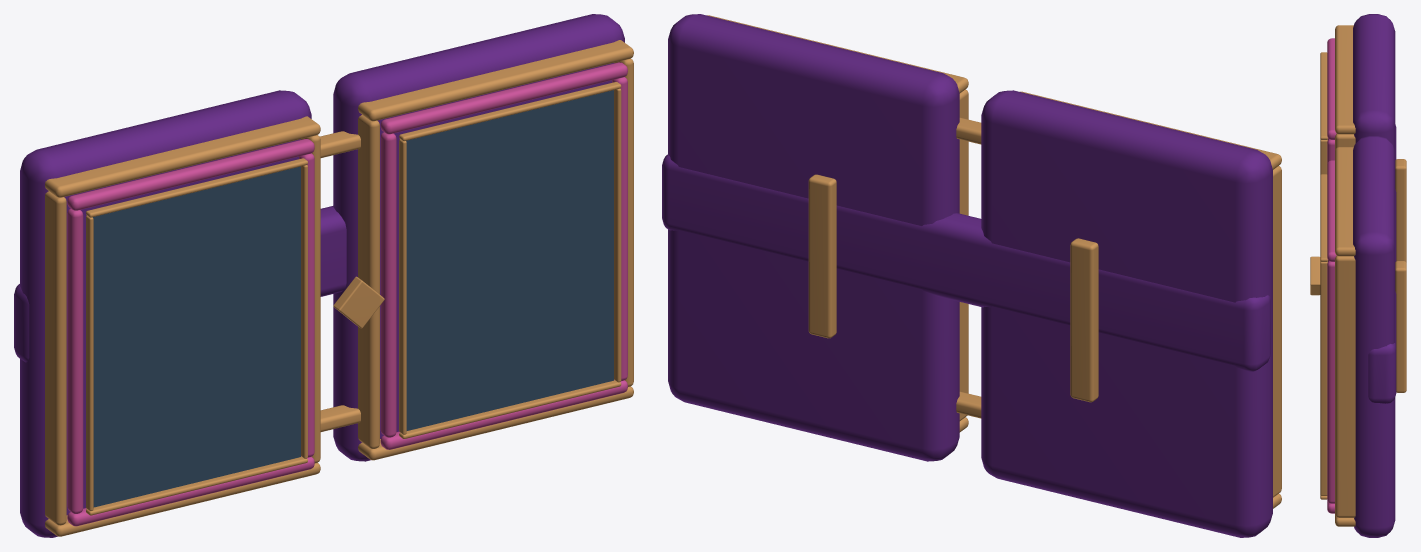
File: portrait-pair.glb
The picture shows the model from 3 angles, left to right: view 1: azimuth 30°, elevation 25°; view 2: azimuth 150°, elevation 25°; view 3: azimuth 270°, elevation 25°; orthographic projection. The views are drawn at different scales.
Parts seen in each view (by area): view 1: screen_surface_1, screen_surface_2, portrait_back, portrait_back.001, portrait_brass_side, portrait_brass_side.002, portrait_brass_top, portrait_brass_top.001, portrait_rose_side, portrait_rose_side.002, portrait_rose_top.001, portrait_rose_top (+20 smaller); view 2: portrait_back, portrait_back.001, pair_backbridge, wall_mount, wall_mount.001, portrait_brass_side, portrait_brass_side.002; view 3: portrait_back.001, portrait_brass_side.003, portrait_back, portrait_brass_top, portrait_brass_top.001, portrait_rose_side.003, pair_backbridge, portrait_bead_side.003, wall_mount.001, wall_mount, portrait_rose_top, portrait_rose_top.001 (+7 smaller).
Part boxes in pixels (box(x1,y1,x2,y2)): screen_surface_1: box(93, 166, 300, 507); screen_surface_2: box(406, 90, 613, 430); portrait_back: box(20, 90, 311, 537); portrait_back.001: box(333, 14, 624, 461); portrait_brass_side: box(45, 191, 66, 525); portrait_brass_side.002: box(358, 115, 379, 448); portrait_brass_top: box(45, 116, 320, 197); portrait_brass_top.001: box(358, 40, 633, 121); portrait_rose_side: box(67, 208, 83, 513); portrait_rose_side.002: box(380, 132, 396, 437); portrait_rose_top.001: box(380, 62, 627, 134); portrait_rose_top: box(67, 139, 314, 210); portrait_back: box(981, 90, 1272, 537); portrait_back.001: box(668, 14, 959, 461); pair_backbridge: box(662, 154, 1270, 371); wall_mount: box(1070, 238, 1098, 402); wall_mount.001: box(808, 174, 836, 338); portrait_brass_side: box(1273, 166, 1281, 497); portrait_brass_side.002: box(959, 89, 968, 420); portrait_back.001: box(1353, 136, 1395, 537); portrait_brass_side.003: box(1335, 256, 1355, 517); portrait_back: box(1353, 14, 1395, 152); portrait_brass_top: box(1335, 25, 1355, 134); portrait_brass_top.001: box(1335, 147, 1355, 256); portrait_rose_side.003: box(1327, 261, 1334, 503); pair_backbridge: box(1368, 124, 1396, 403); portrait_bead_side.003: box(1320, 261, 1327, 495); wall_mount.001: box(1395, 261, 1406, 392); wall_mount: box(1395, 159, 1406, 262); portrait_rose_top: box(1327, 38, 1336, 139); portrait_rose_top.001: box(1327, 160, 1336, 261).
Bounding box in the file's own units: 1.28 × 0.78 × 0.2245.
